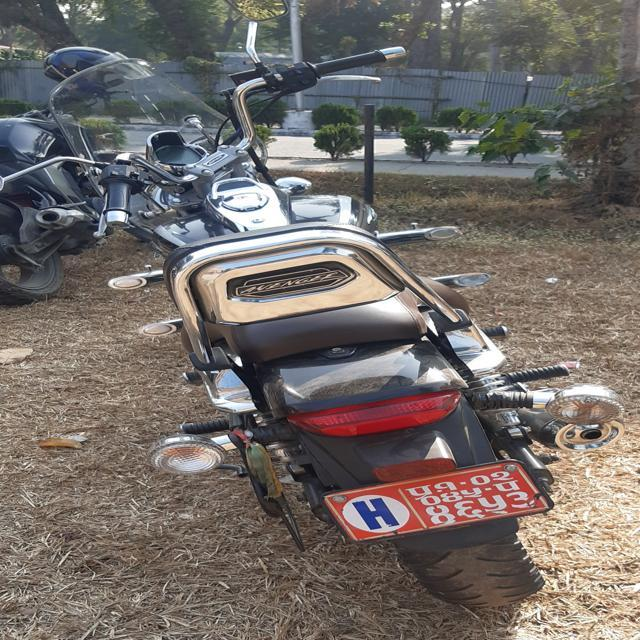license_plate: (316, 444, 559, 544)
